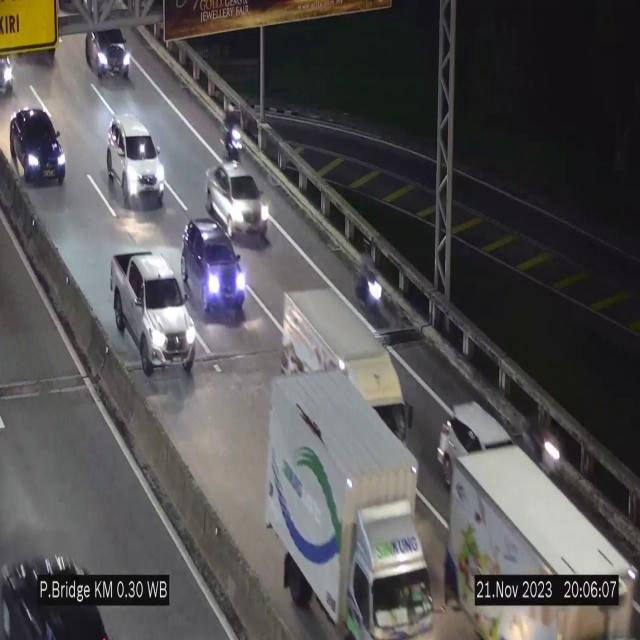Car: (111, 247, 197, 386), (0, 532, 110, 640), (181, 218, 247, 328), (438, 392, 514, 483), (9, 105, 67, 194), (108, 117, 165, 207), (205, 162, 269, 239), (86, 13, 128, 84)
Motorcycle: (536, 404, 568, 496), (352, 233, 383, 315), (223, 100, 246, 164)
Truck: (262, 370, 436, 640), (448, 447, 640, 640), (281, 288, 415, 444)
